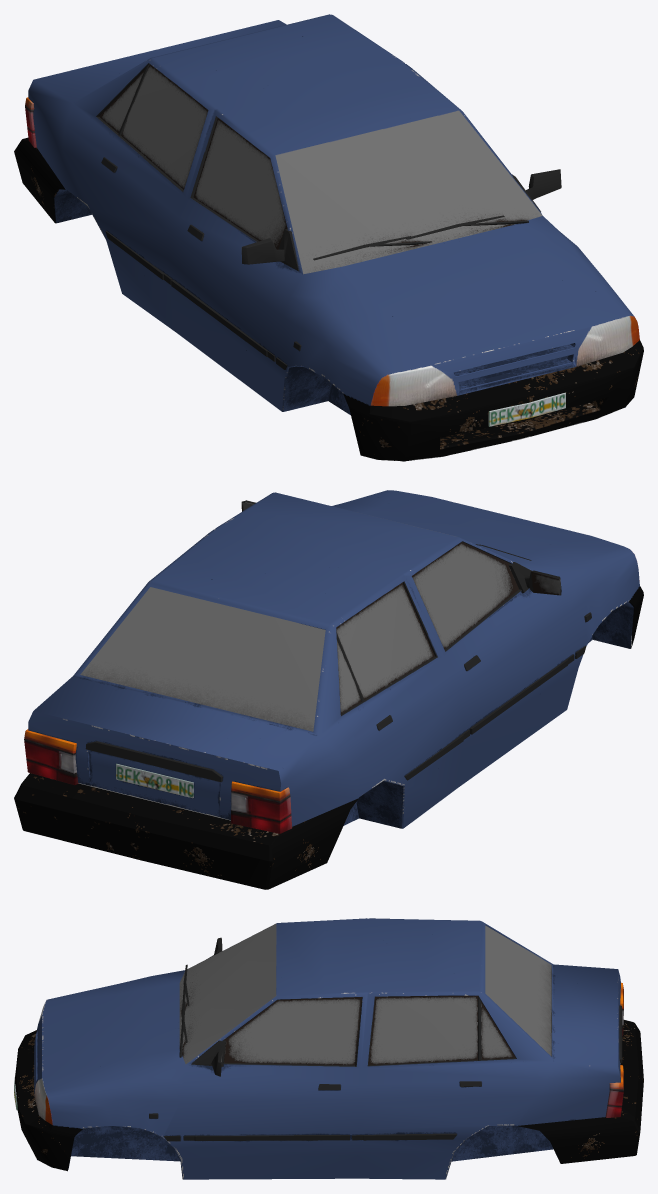
The model's file is G_LP_CarST.FBX.
3 views of the same model, one above another, from view 1: azimuth 30°, elevation 25°; view 2: azimuth 150°, elevation 25°; view 3: azimuth 270°, elevation 25° (orthographic). The views are drawn at different scales.
Parts seen in each view (by area): view 1: car; view 2: car; view 3: car.
Boxes of the visible parts, x1,y1,x2,y2 form: car: (14, 14, 643, 461); car: (14, 490, 643, 889); car: (14, 918, 643, 1179).
Bounding box in the file's own units: 175 × 109 × 371.
1 material, 1 textured.
